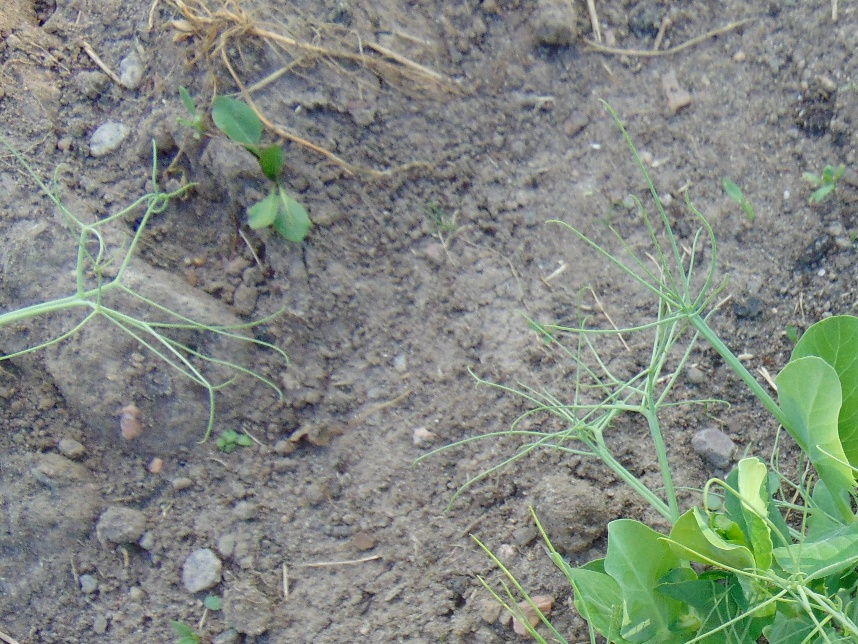crop: (536, 242, 858, 644), (1, 180, 171, 383)
weed: (213, 90, 311, 245)
